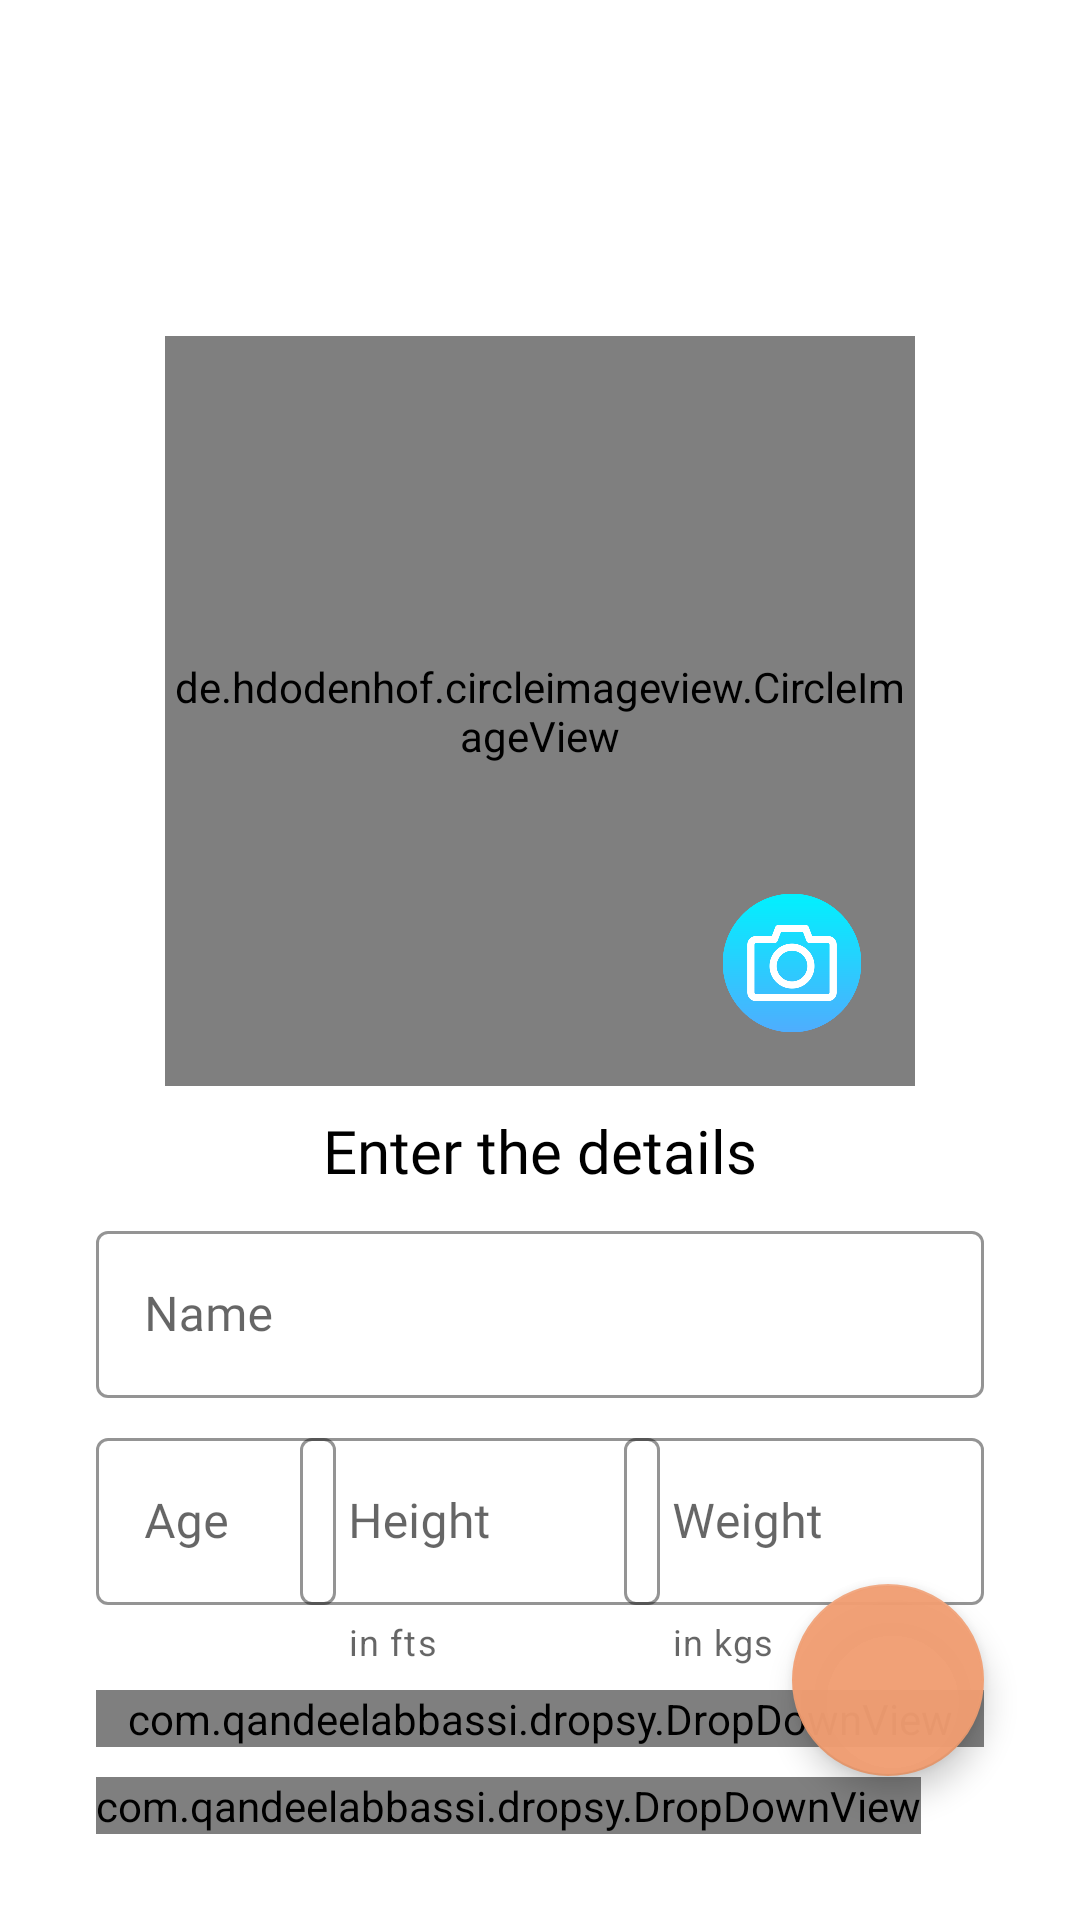

Screen size 1080 x 1920. Icon name, then its center in pixels as (x,y):
addnewdp: (792,963)
